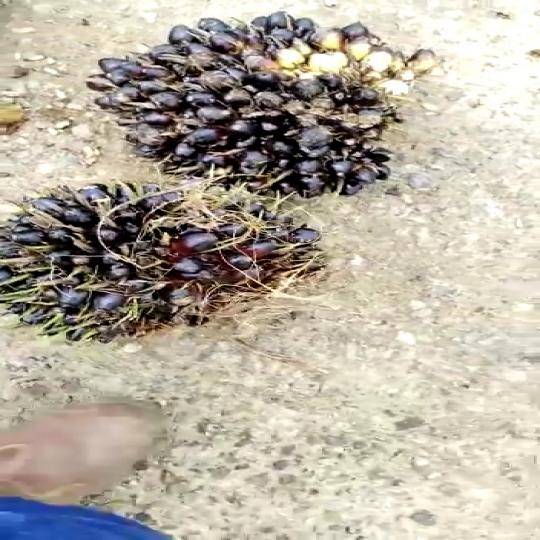mentah: (93, 6, 481, 202), (0, 184, 347, 332)
